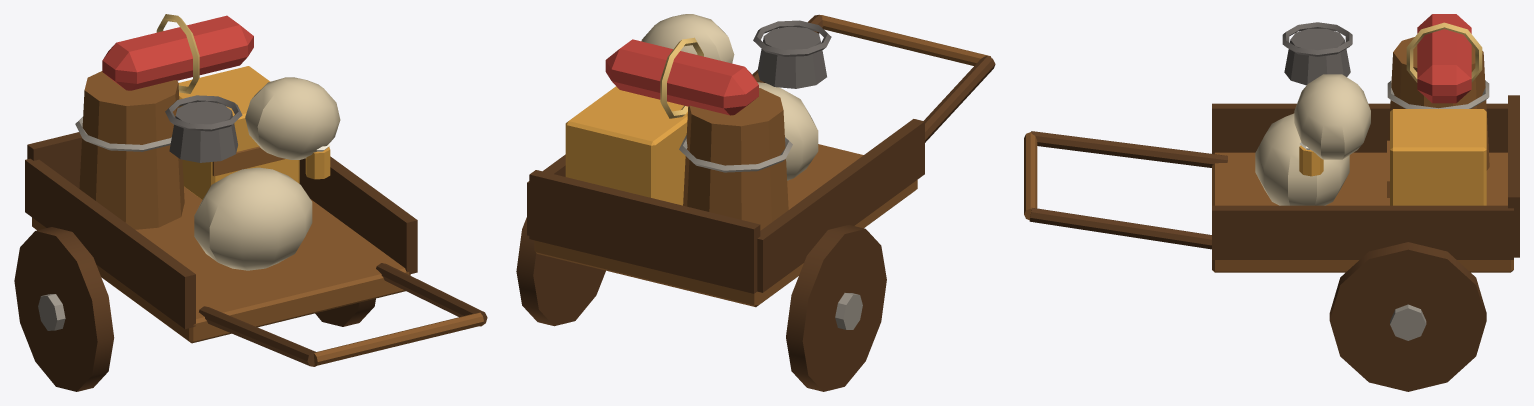
The model's file is PR_Intro_Araba.fbx.
3 views of the same model, side by side, from view 1: azimuth 30°, elevation 25°; view 2: azimuth 150°, elevation 25°; view 3: azimuth 270°, elevation 25° (orthographic). The views are drawn at different scales.
Visible parts, largest first — view 1: PR_Intro_Araba; view 2: PR_Intro_Araba; view 3: PR_Intro_Araba.
Part boxes in pixels (x1,y1,x2,y2): PR_Intro_Araba: [14, 14, 487, 391]; PR_Intro_Araba: [516, 14, 995, 391]; PR_Intro_Araba: [1024, 14, 1519, 391].
Bounding box in the file's own units: 1.08 × 1.11 × 1.64.
